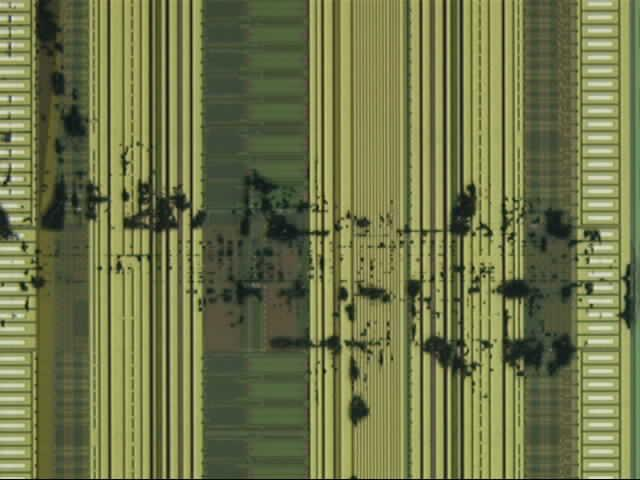PO CONTAMINATION: (1, 1, 640, 428)
